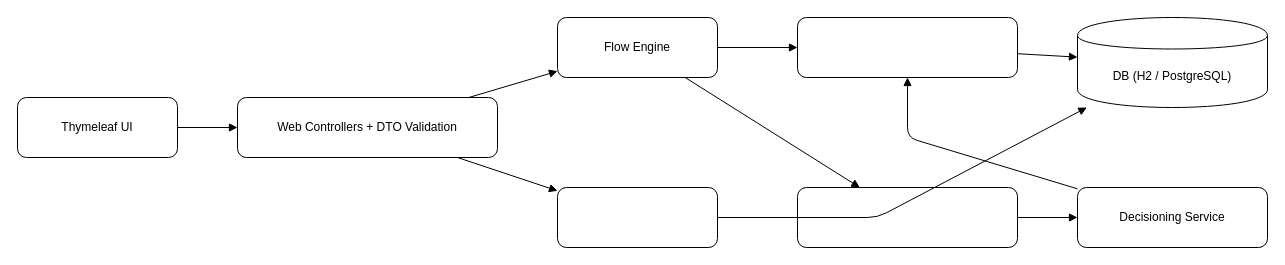
This 1285x265 diagram has some shape labels left out. Each missing label, with the centre of its shape:
Application State Service: the point at 907,47
Audit Service: the point at 637,217
Integration Clients (Mocks): the point at 907,217
